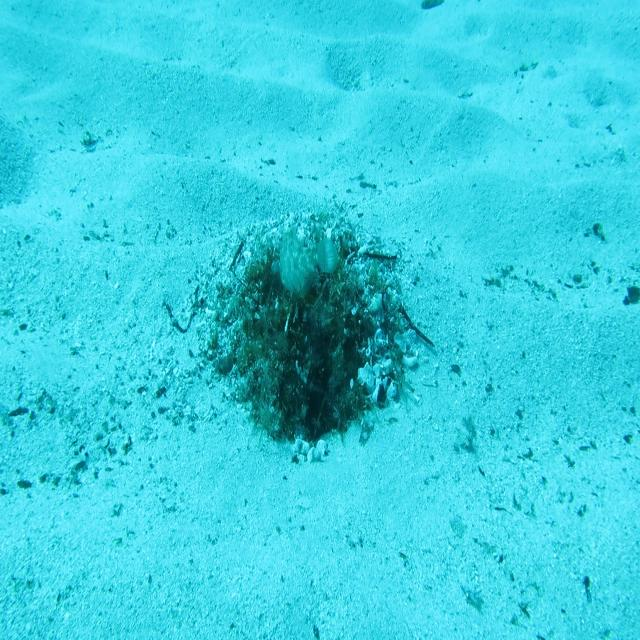NIP_CORE: (270, 220, 339, 303)
core_nest: (275, 265, 331, 306)
nest: (186, 188, 424, 471)
vegetation: (422, 0, 444, 13)
